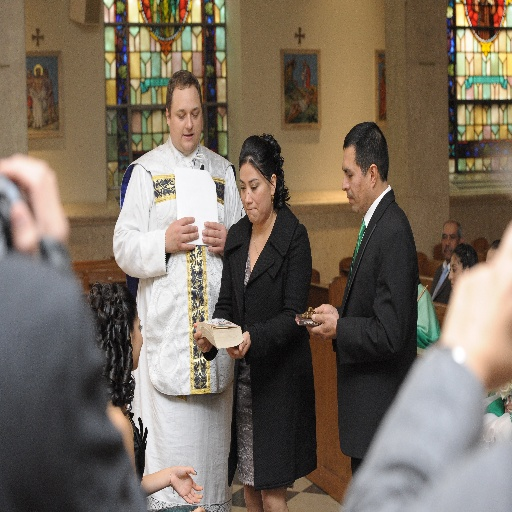hand: (438, 222, 511, 392), (3, 150, 74, 268), (164, 214, 199, 253), (168, 465, 202, 503), (202, 218, 227, 253), (310, 310, 336, 341), (225, 329, 250, 359), (191, 320, 212, 355), (312, 302, 337, 313), (504, 392, 511, 416), (191, 501, 205, 511)
